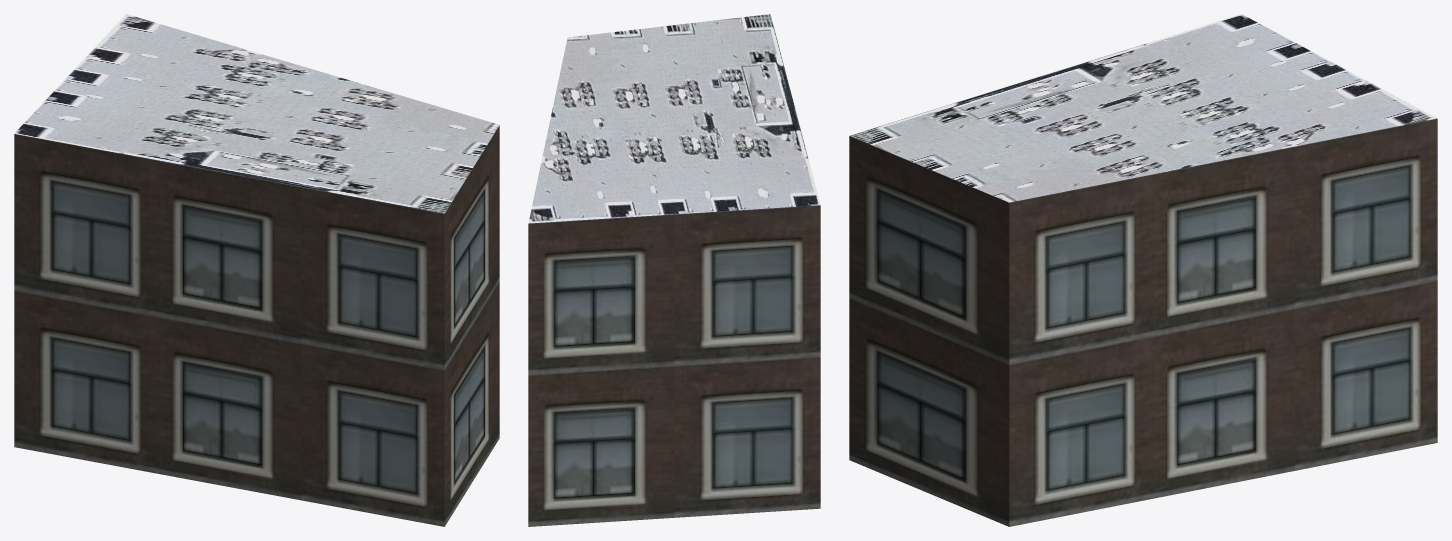
File: ResTex__524.fbx
3 renders of one model, left to right at view 1: azimuth 30°, elevation 25°; view 2: azimuth 150°, elevation 25°; view 3: azimuth 270°, elevation 25°, orthographic. The views are drawn at different scales.
Visible parts, largest first — view 1: CityEngineMaterial_16_m, CityEngineMaterial_15_m; view 2: CityEngineMaterial_16_m, CityEngineMaterial_15_m; view 3: CityEngineMaterial_16_m, CityEngineMaterial_15_m.
Part boxes in pixels (left/top/right/bottom): CityEngineMaterial_16_m: left=14, top=125, right=499, bottom=526; CityEngineMaterial_15_m: left=14, top=14, right=499, bottom=213; CityEngineMaterial_16_m: left=528, top=205, right=820, bottom=526; CityEngineMaterial_15_m: left=528, top=14, right=820, bottom=223; CityEngineMaterial_16_m: left=849, top=118, right=1437, bottom=526; CityEngineMaterial_15_m: left=849, top=14, right=1437, bottom=202.
Bounding box in the file's own units: 7.48 × 6 × 9.87.
2 materials, 2 textured.
